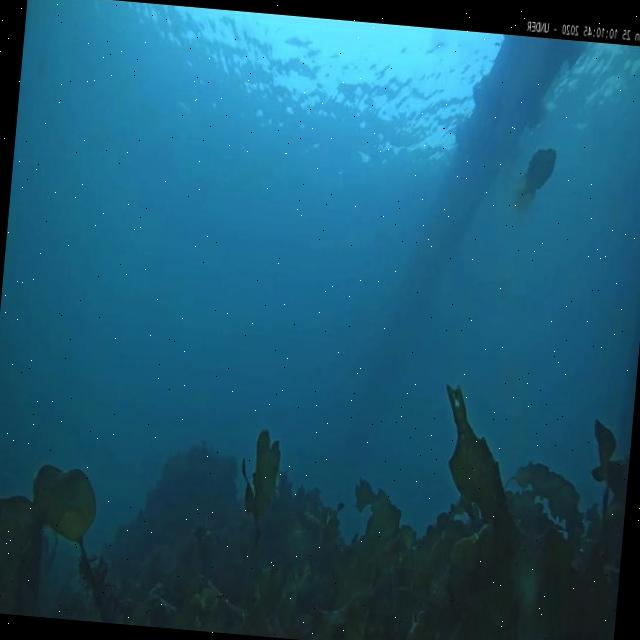fish: (514, 142, 555, 208)
